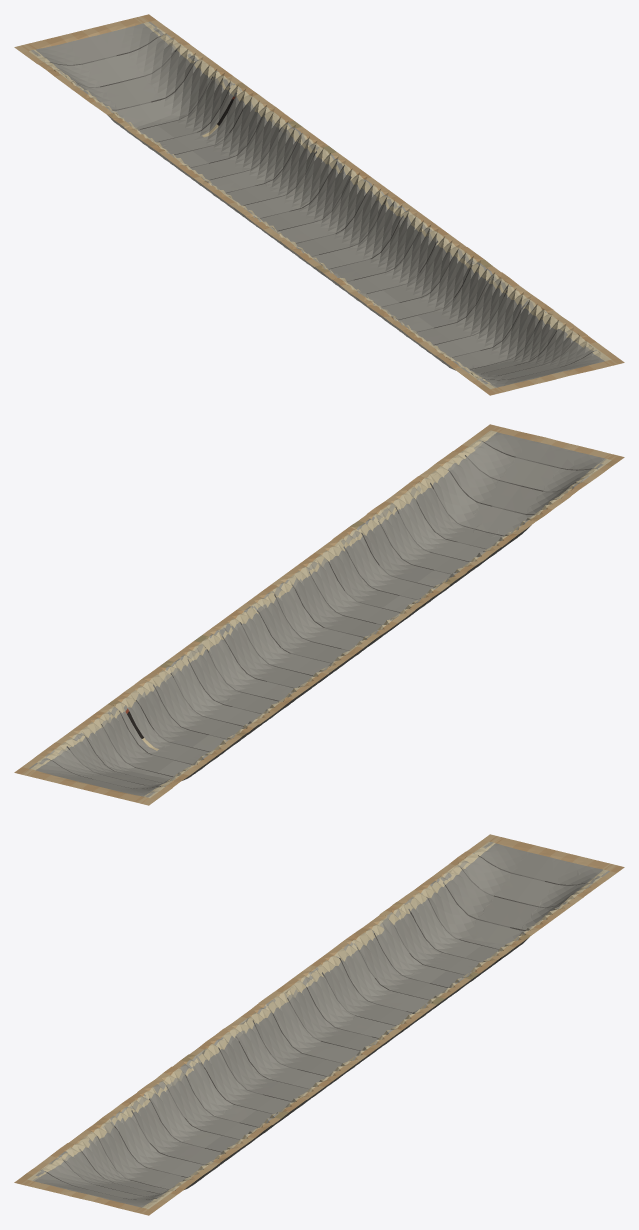
The model's file is liner_wasteway_chute.glb.
3 views of the same model, one above another, from view 1: azimuth 30°, elevation 25°; view 2: azimuth 150°, elevation 25°; view 3: azimuth 330°, elevation 25° (orthographic).
Parts seen in each view (by area): view 1: liner_wasteway_chute_body; view 2: liner_wasteway_chute_body; view 3: liner_wasteway_chute_body.
Boxes of the visible parts, x1,y1,x2,y2 form: liner_wasteway_chute_body: (14,14,624,395); liner_wasteway_chute_body: (14,424,624,805); liner_wasteway_chute_body: (14,834,624,1215).
Bounding box in the file's own units: 36 × 10.2 × 220.
